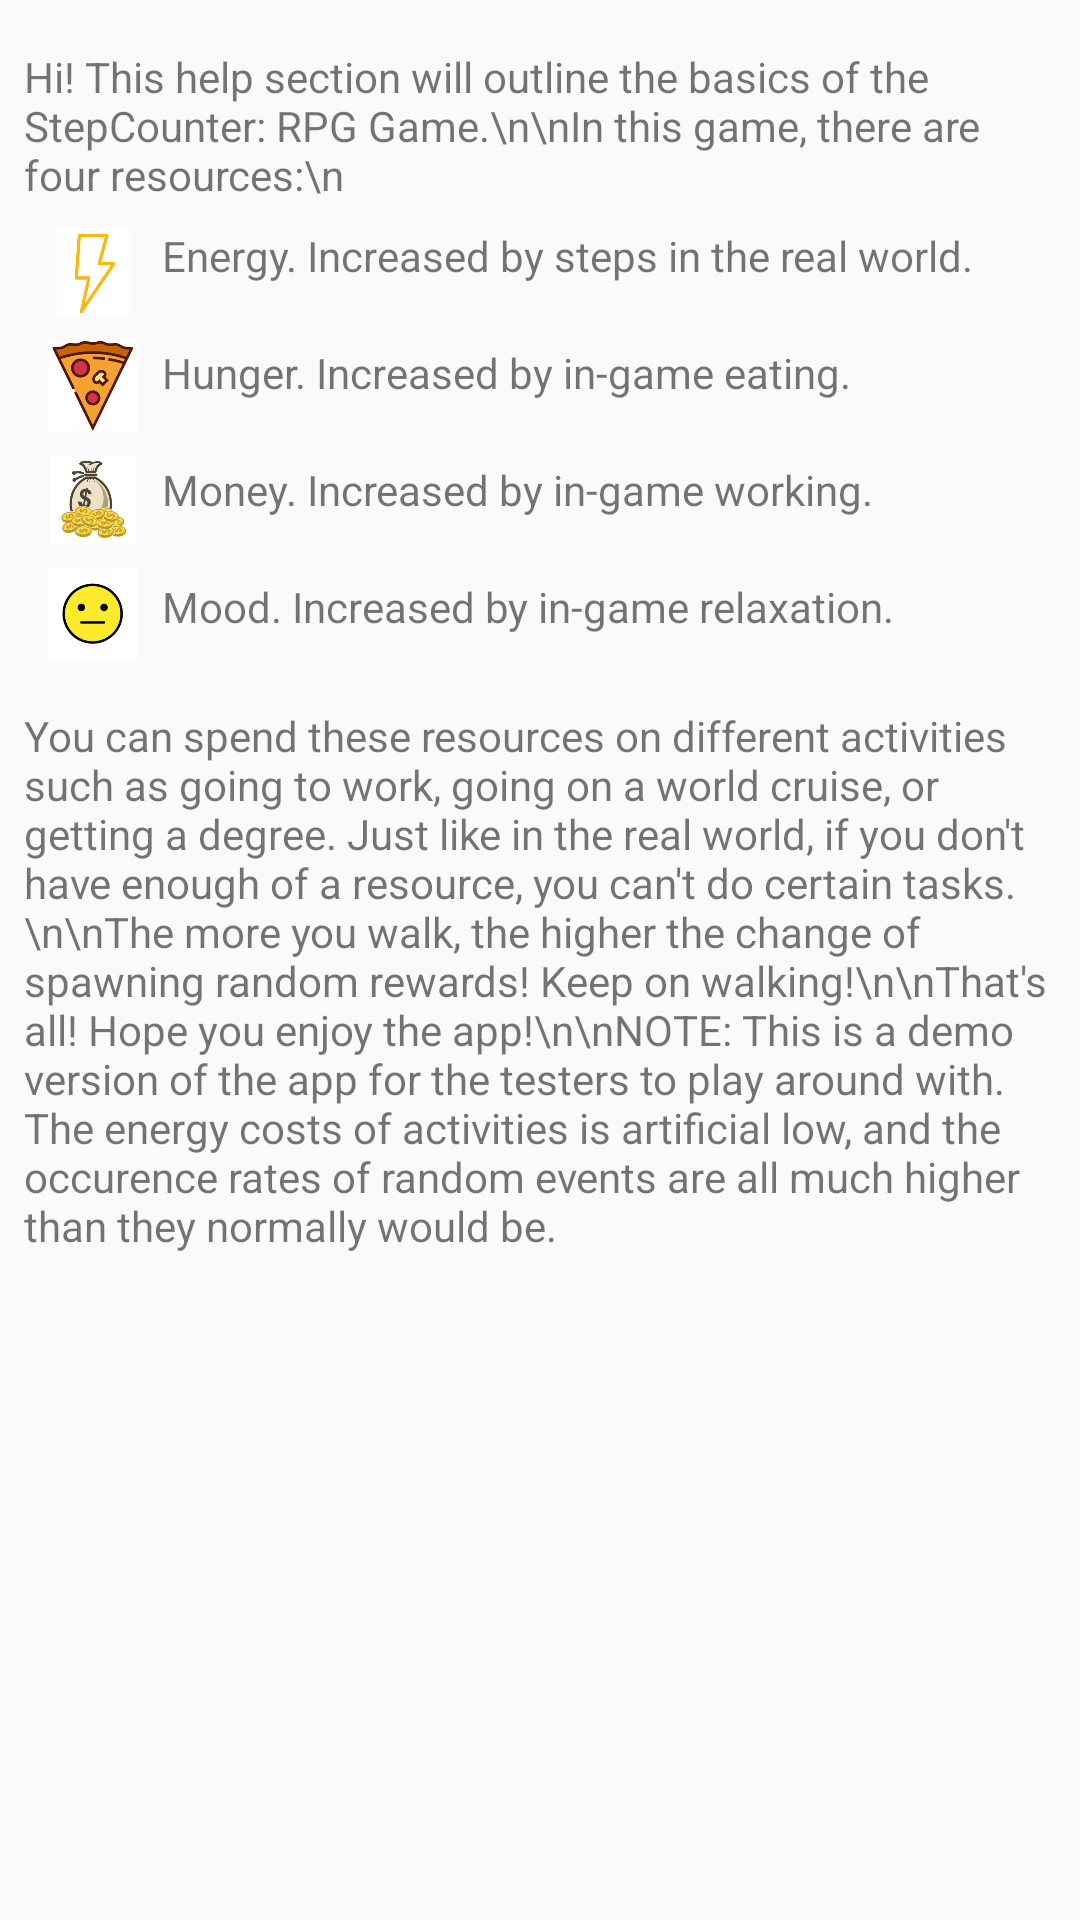

Locate icon controls on the screen. Image size 1080x1920, boxes as BBox(x1, y1, x2, y2).
resource energy: BBox(74, 234, 115, 313)
resource food: BBox(52, 341, 134, 431)
resource money: BBox(61, 461, 126, 538)
resource mood: BBox(62, 583, 123, 644)
